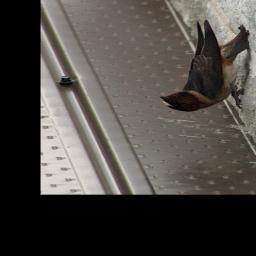Swallow: (160, 20, 253, 112)
